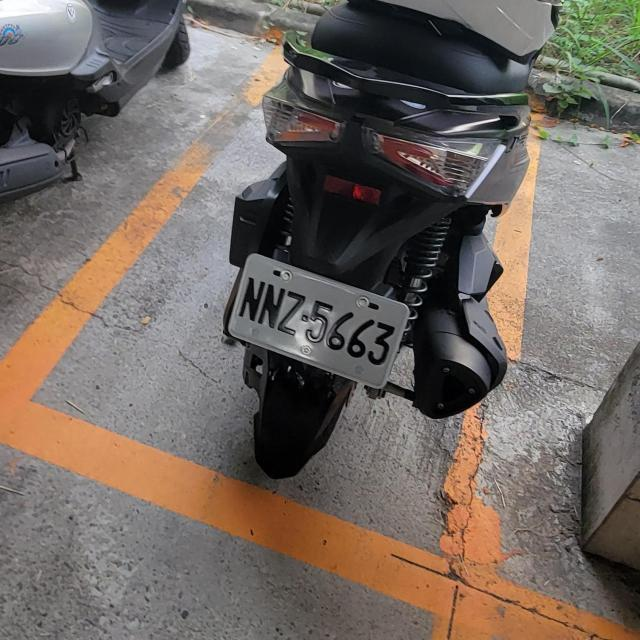W: (220, 247, 416, 392)
